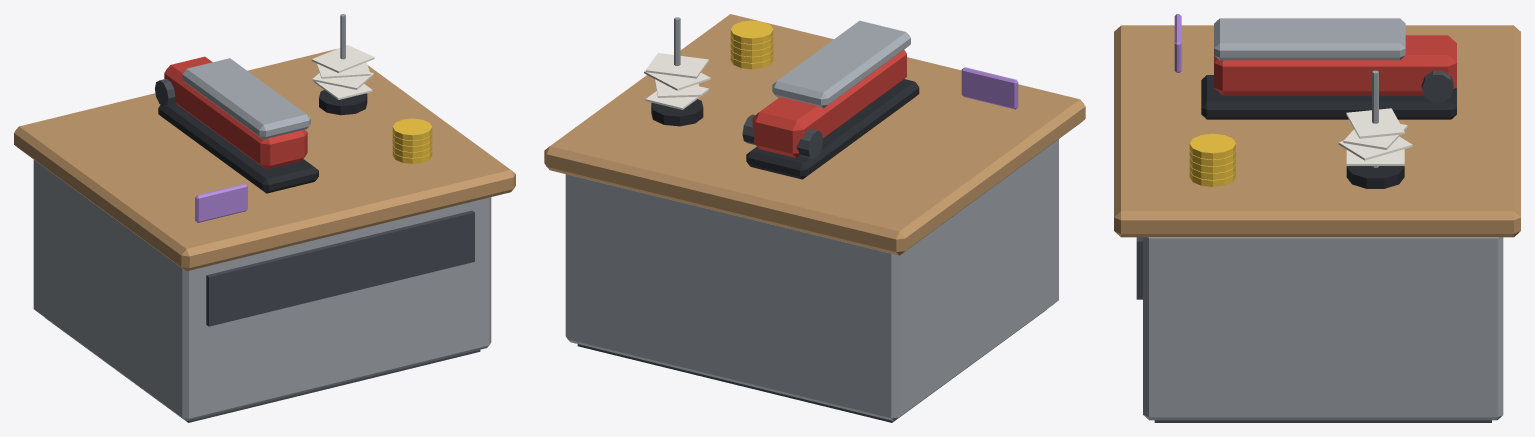
Rendered from artillery_p2_3.glb.
The picture shows the model from 3 angles, left to right: view 1: azimuth 30°, elevation 25°; view 2: azimuth 150°, elevation 25°; view 3: azimuth 270°, elevation 25°; orthographic projection. The views are drawn at different scales.
Parts seen in each view (by area): view 1: artillery_p2_3_mesh_Desk, artillery_p2_3_mesh; view 2: artillery_p2_3_mesh_Desk, artillery_p2_3_mesh; view 3: artillery_p2_3_mesh_Desk, artillery_p2_3_mesh.
Boxes of the visible parts, x1,y1,x2,y2 form: artillery_p2_3_mesh_Desk: (14, 48, 515, 422); artillery_p2_3_mesh: (155, 14, 432, 222); artillery_p2_3_mesh_Desk: (544, 14, 1085, 422); artillery_p2_3_mesh: (644, 17, 1018, 179); artillery_p2_3_mesh_Desk: (1114, 25, 1520, 422); artillery_p2_3_mesh: (1174, 14, 1456, 188).
Bounding box in the file's own units: 0.78 × 0.62 × 0.7.
